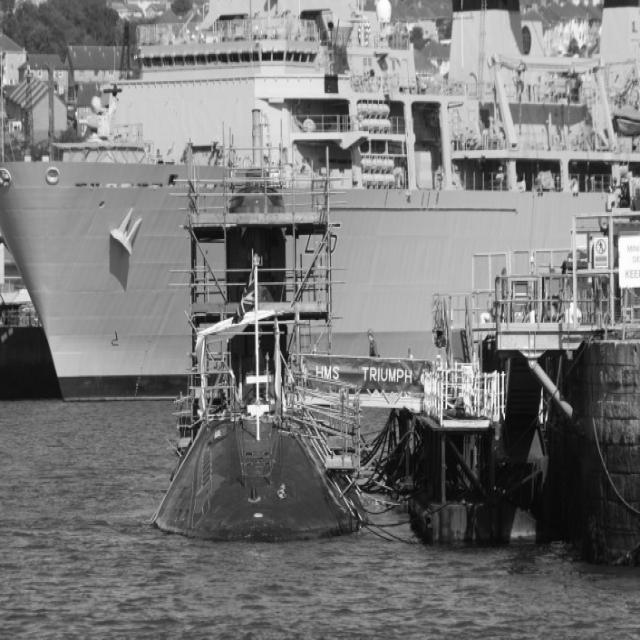submarine: (155, 406, 367, 547)
